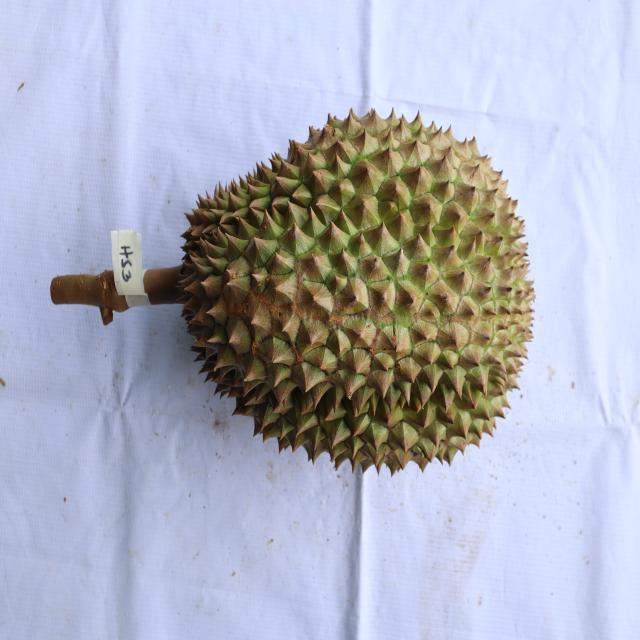mature: (176, 104, 535, 478)
